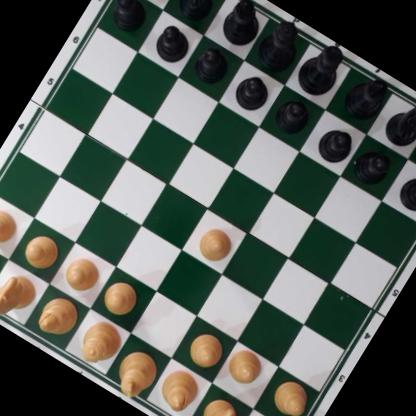black-bishop: (339, 66, 395, 125), (216, 0, 271, 51)
black-king: (290, 34, 351, 101)
black-knight: (380, 88, 416, 153), (170, 0, 228, 26)
black-pawn: (350, 142, 397, 190), (230, 68, 277, 115), (150, 19, 196, 67), (270, 92, 316, 139), (314, 121, 359, 167), (190, 41, 234, 88), (106, 0, 153, 36), (394, 168, 416, 218)
black-queen: (252, 13, 312, 77)
white-bishop: (32, 289, 84, 343), (153, 363, 205, 416)
white-king: (110, 343, 163, 403)
white-knight: (0, 268, 41, 327), (189, 392, 243, 416)
white-pawn: (59, 250, 105, 297), (192, 221, 239, 267), (183, 326, 228, 372), (223, 344, 268, 390), (99, 275, 144, 320), (267, 374, 315, 416), (20, 229, 64, 274), (0, 201, 24, 249)
white-queen: (72, 312, 128, 373)
white-rook: (0, 236, 2, 296)
